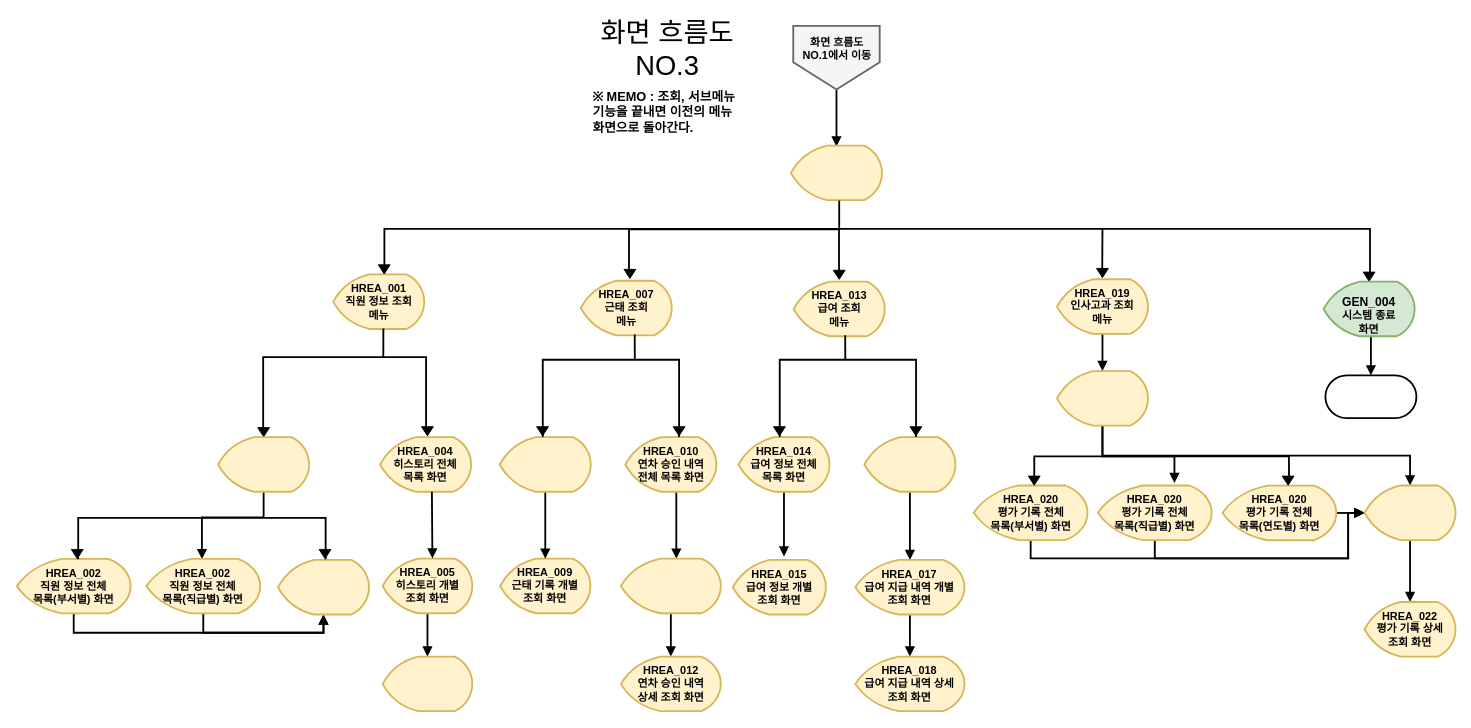
This 1471x728 diagram has some shape labels left out. The shapes that lost their labels are listed below. From the top down, each one's centre as x and y in pixels, then its label:
the point at 836,172: HREA_000 인사팀 열람자 메뉴
the point at 1102,398: HREA_020 평가 기록 전체 목록 화면
the point at 1370,396: 종료
the point at 263,464: HREA_002 직원 정보 전체 목록 화면
the point at 544,464: HREA_008 근태 기록 전체 목록 화면
the point at 909,464: HREA_016 급여 지급 내역 전체 목록 화면
the point at 1409,512: HREA_021 평가 기록 개별 조회 화면
the point at 323,587: HREA_003 직원 정보 개별 조회 화면
the point at 670,585: HREA_011 연차 승인 내역 개별 조회 화면
the point at 427,683: HREA_006 히스토리 상세 조회 화면
